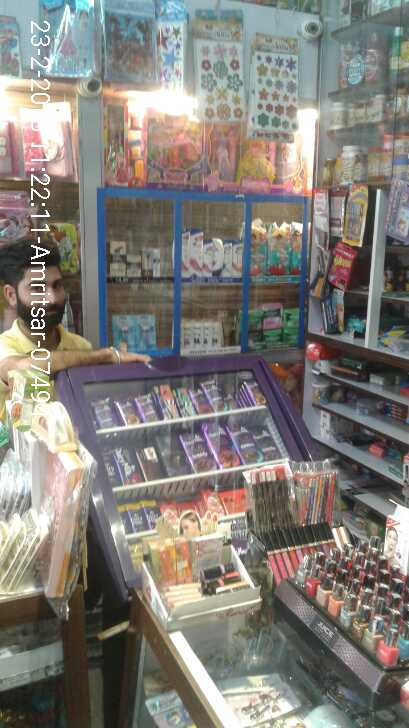venus: (111, 313, 136, 350), (136, 313, 154, 350)
